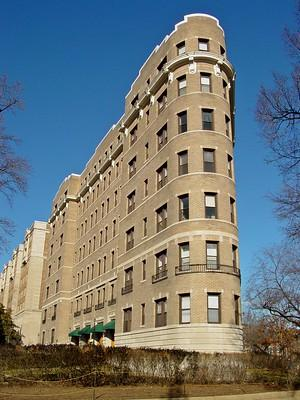building: (34, 11, 248, 358)
